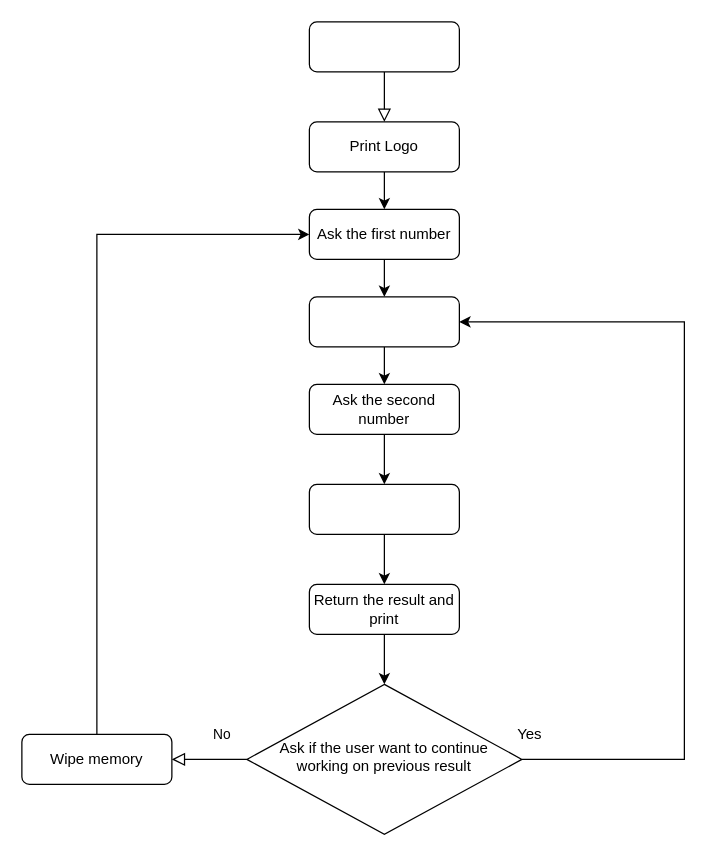
The diagram is 716 pixels wide and 856 high, and some of its shapes have lost their labels. The centre of each missing label's shape, as x and y in pixels:
Ask the math operation: the point at 383,321
Execute the math operation: the point at 383,508
START: the point at 383,46
